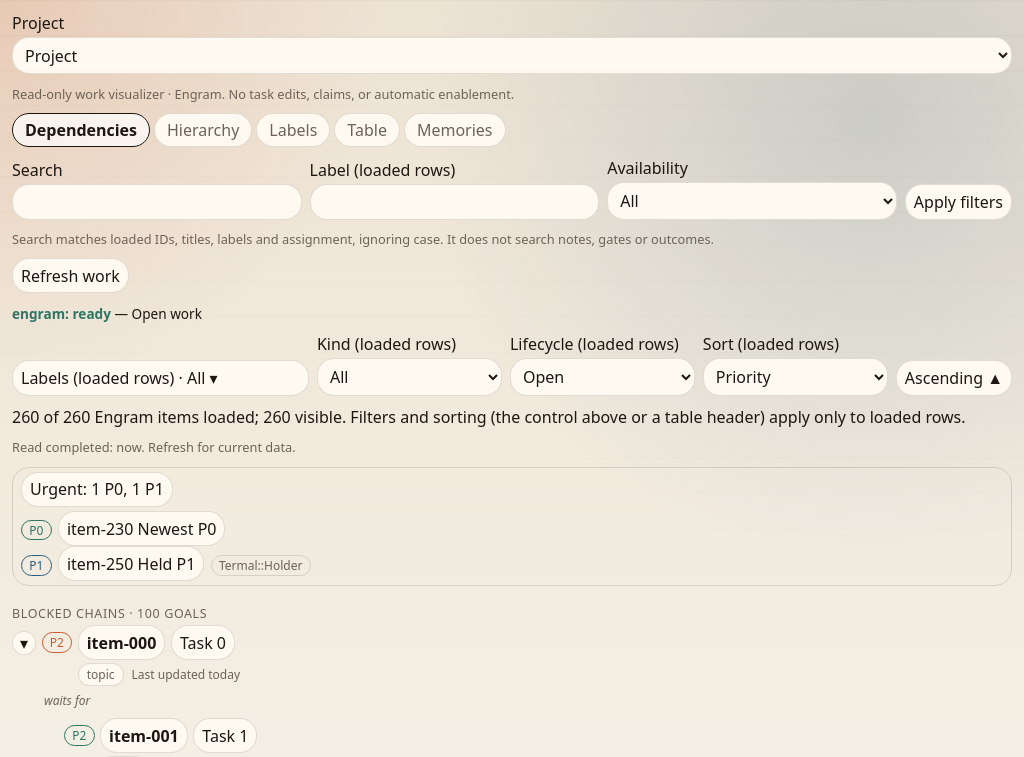
Scenario: Work panel default order and Urgent strip › keeps an unlinked P0 and held P1 reachable through the Urgent strip when chains fill the Dependencies view
expect the text "Termal::Holder" is shown: met, box left=211, top=555, right=311, bottom=576
Click the button "item-230 Newest P0". click: click(142, 529)
box: left=58, top=511, right=226, bottom=546
(page scrolled)
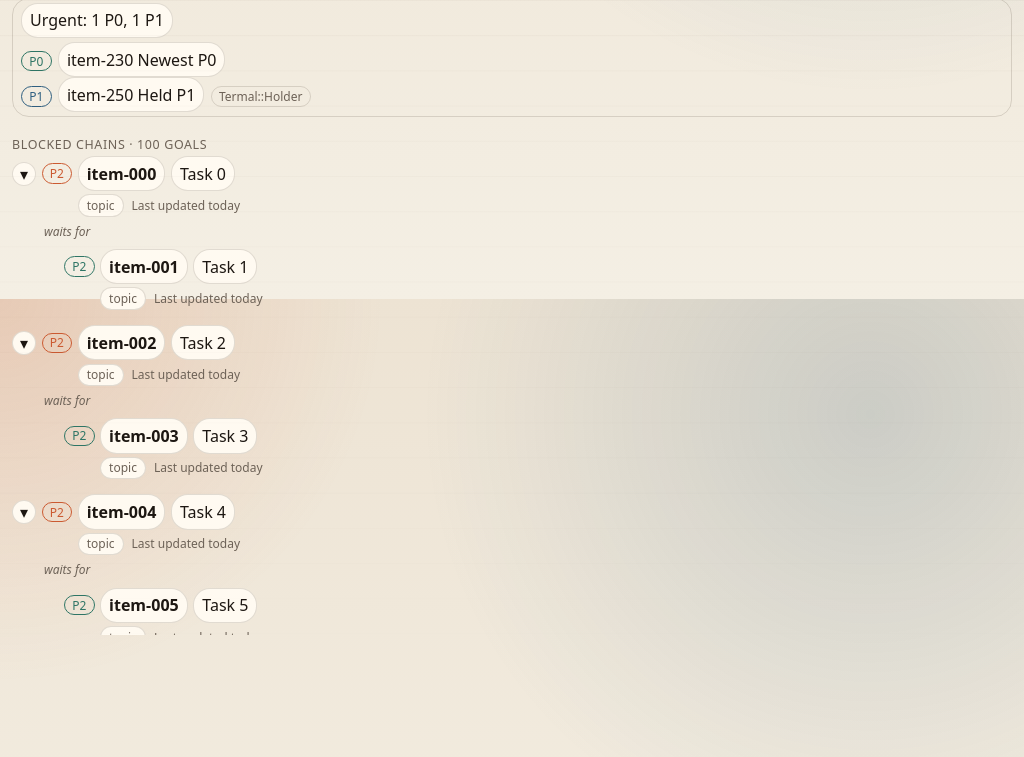
The strip collapses and expands without losing its count.
Click the button "Urgent: 1 P0, 1 P1". click: click(97, 20)
box: left=21, top=3, right=173, bottom=38
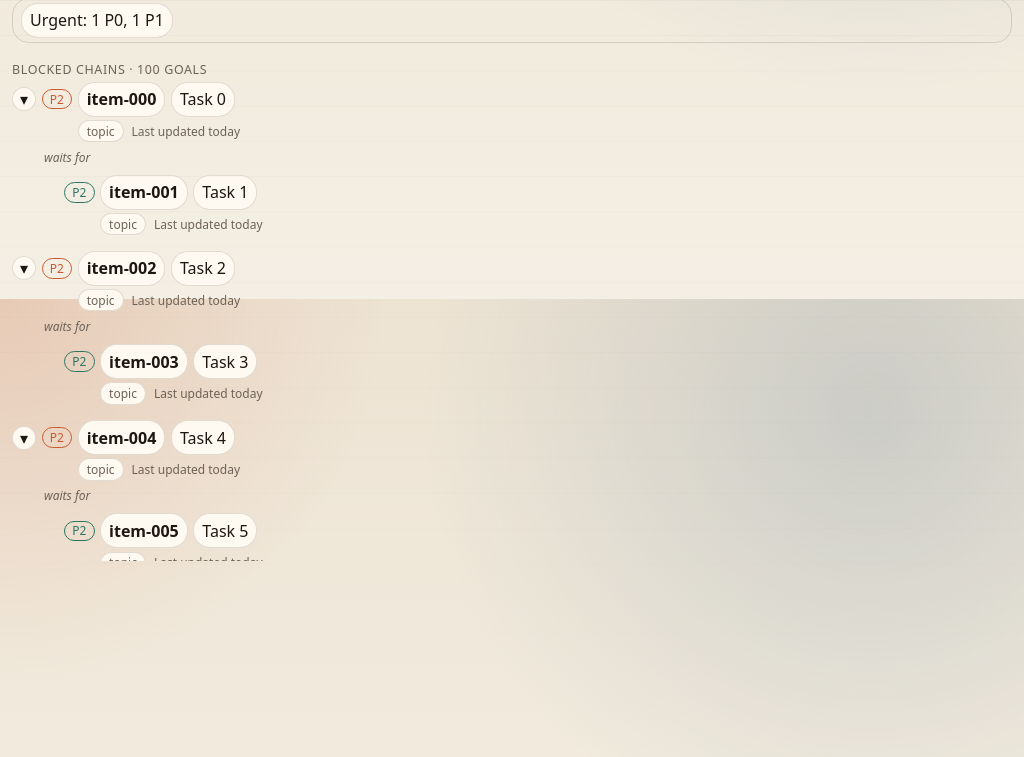
Click the button "Urgent: 1 P0, 1 P1". click: click(97, 20)
box: left=21, top=3, right=173, bottom=38
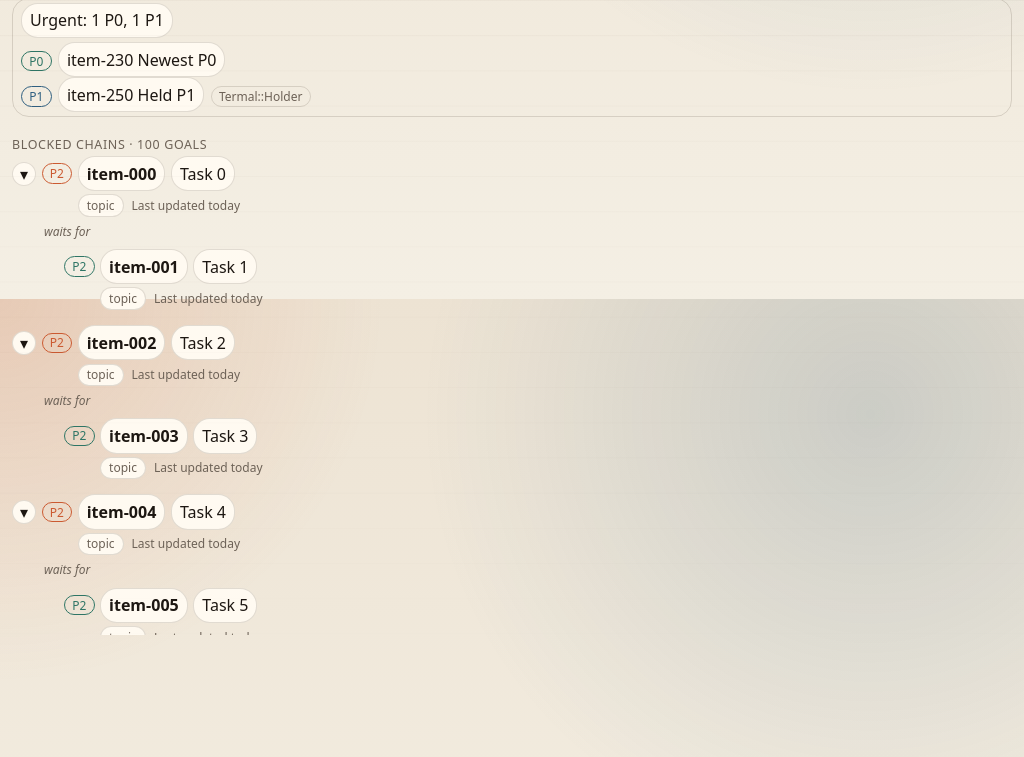
expect the number of buttons named "Urgent item-" is 2: met, box left=58, top=42, right=226, bottom=77; left=58, top=77, right=204, bottom=112
